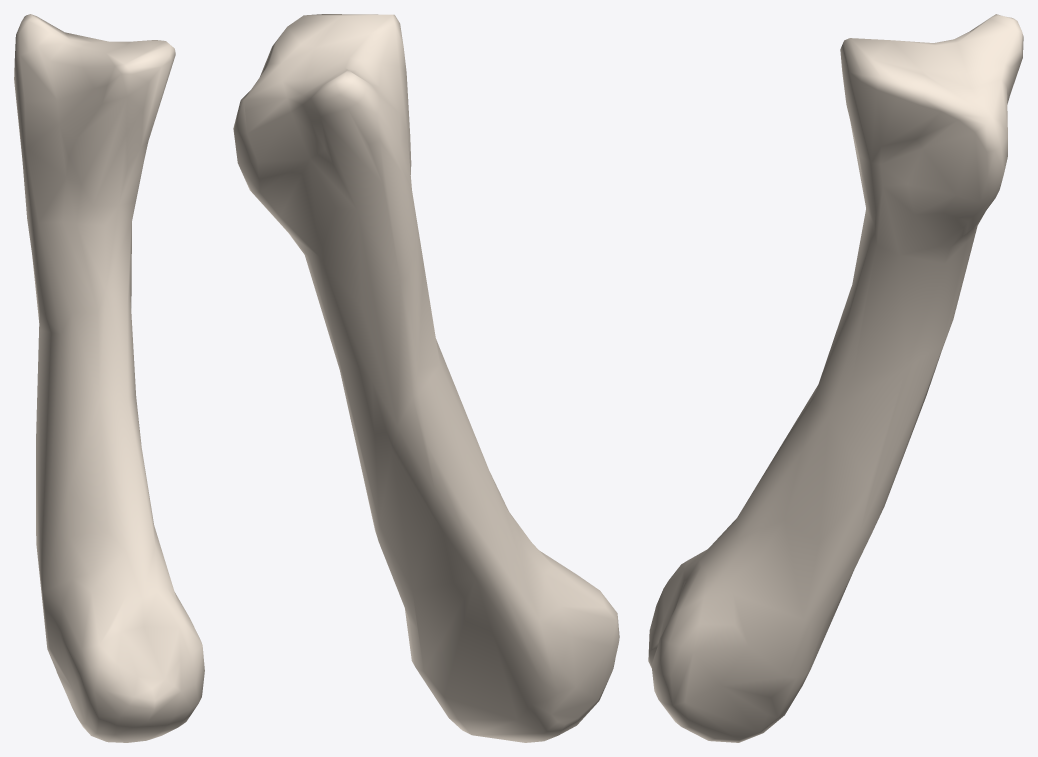
File: right_metacarpal_3.glb
3 renders of one model, left to right at view 1: azimuth 30°, elevation 25°; view 2: azimuth 150°, elevation 25°; view 3: azimuth 270°, elevation 25°, orthographic. The views are drawn at different scales.
Parts seen in each view (by area): view 1: 3rd metacarpal bone.r; view 2: 3rd metacarpal bone.r; view 3: 3rd metacarpal bone.r.
Part boxes in pixels (x1,y1,x2,y2): 3rd metacarpal bone.r: [14, 14, 204, 742]; 3rd metacarpal bone.r: [233, 14, 619, 742]; 3rd metacarpal bone.r: [648, 14, 1023, 742].
Bounding box in the file's own units: 0.02 × 0.0658 × 0.0309.
